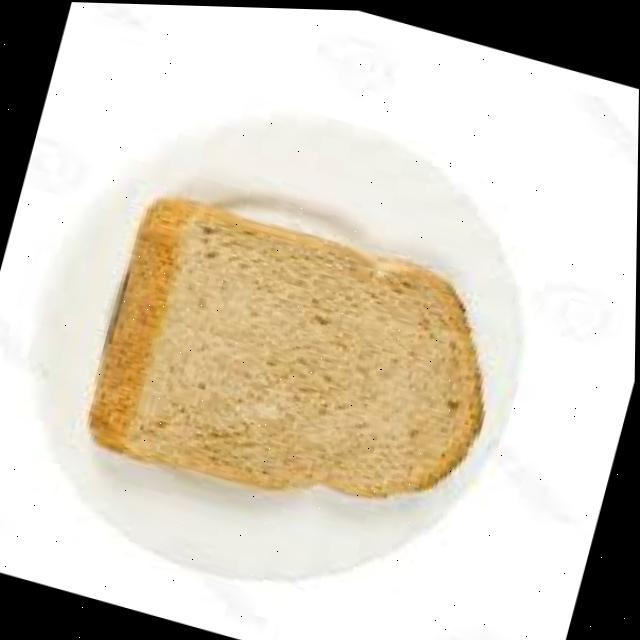Bread: (91, 199, 484, 495)
